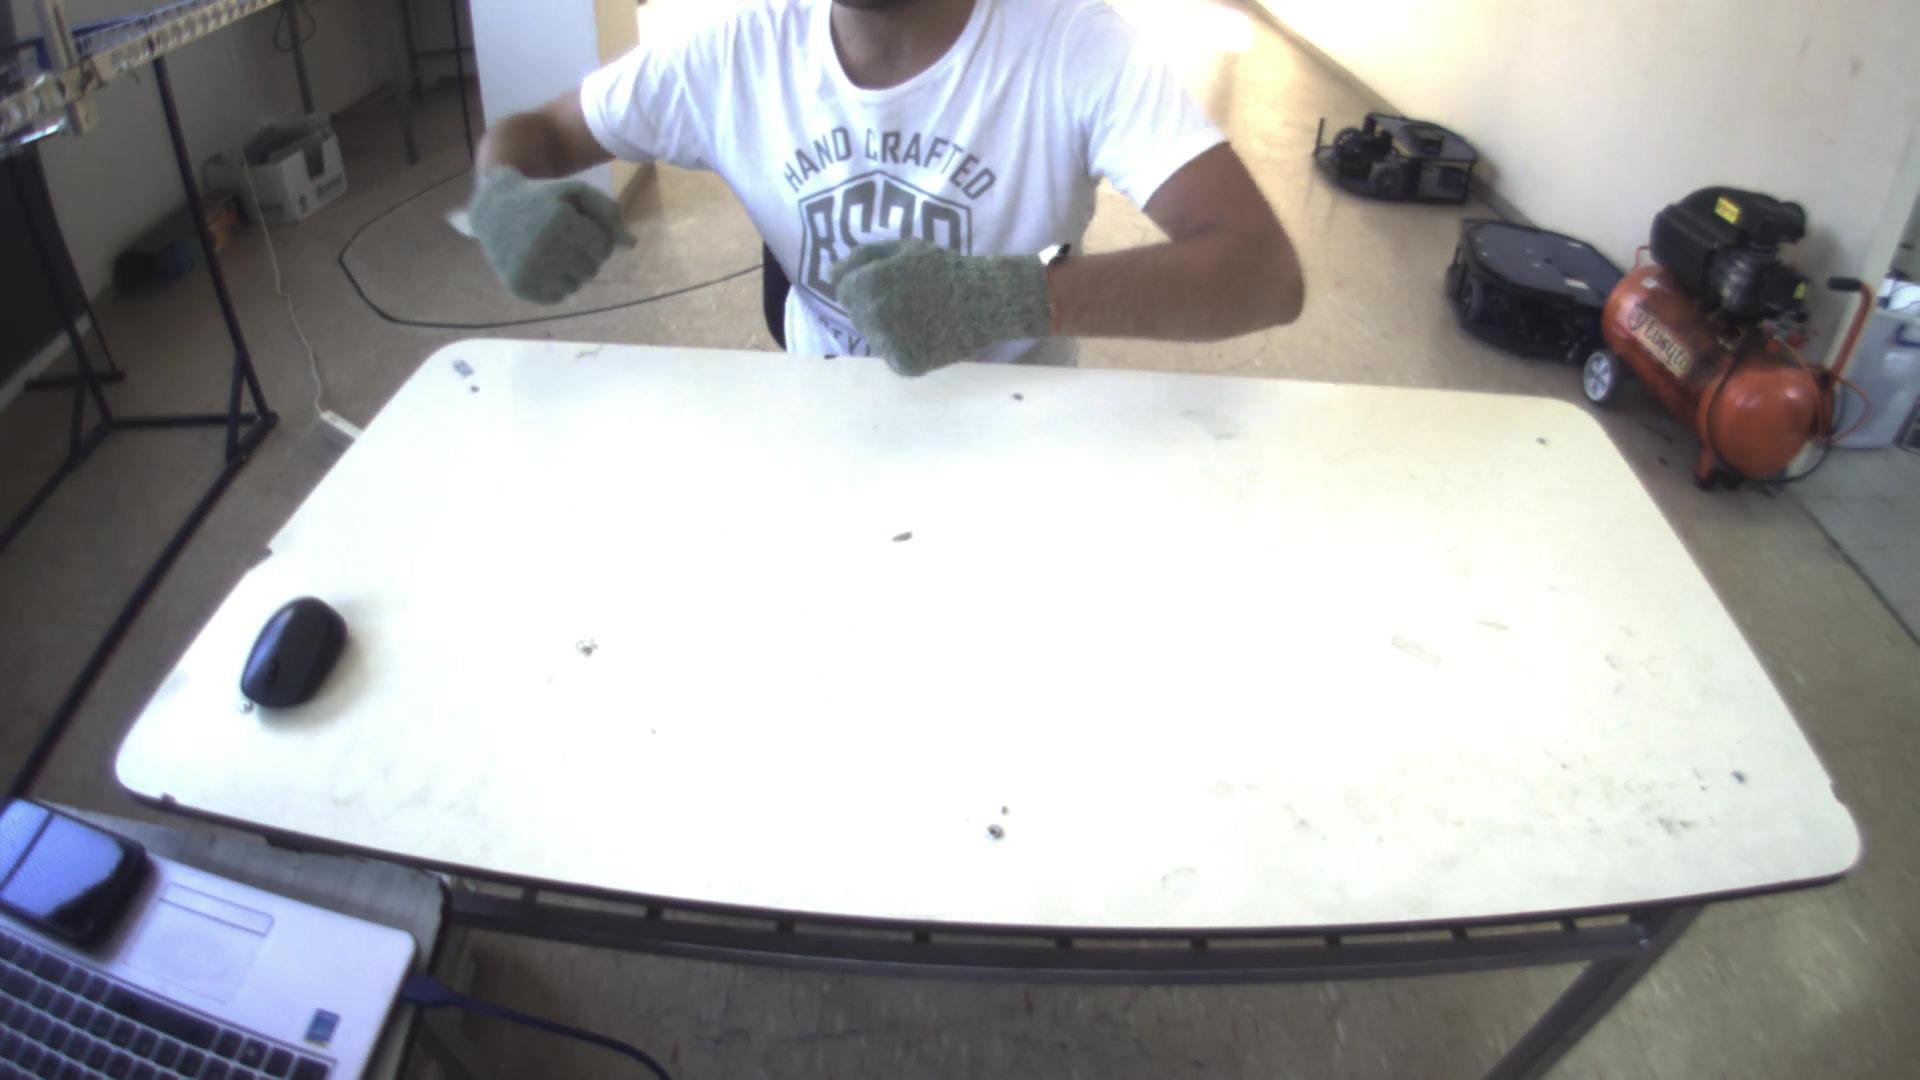hand: (816, 225, 1054, 365), (443, 154, 625, 297)
